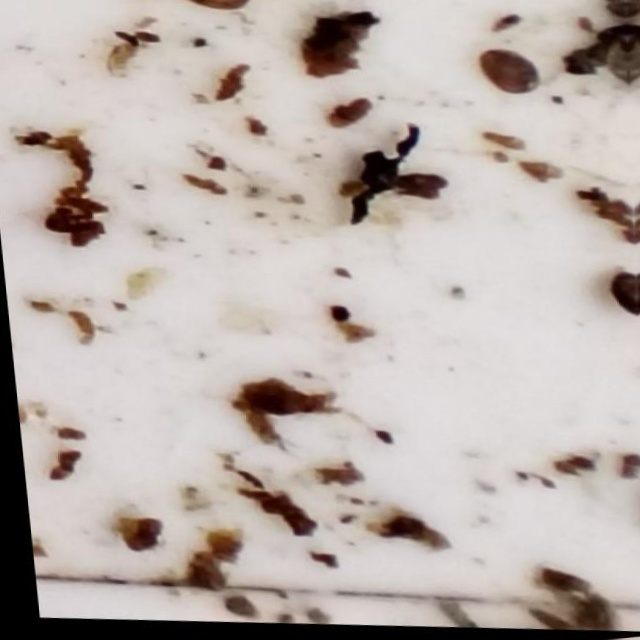varroa: (473, 43, 544, 102), (603, 267, 637, 325)
